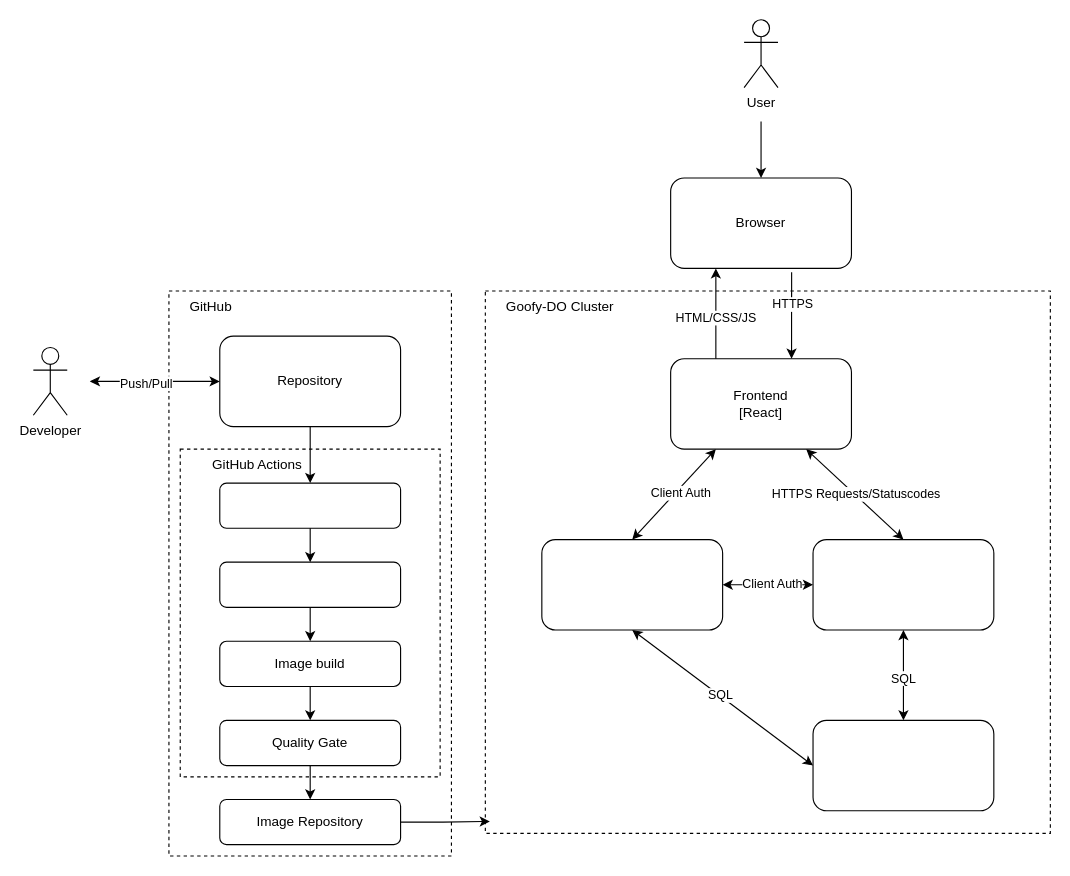
Some shapes in this 1070 by 876 pixel diagram are drawn without their labels. The shapes that lost their labels are listed below. From the top down, each one's centre as x and y in pixels, then its label:
the point at 310,505: SBOM
the point at 310,584: SAST, SCA, Secret Scan
the point at 632,584: Identity Provider [Keycloak]
the point at 903,584: Backend [Quarkus]
the point at 903,765: Datenbank [PostgreSQL]
